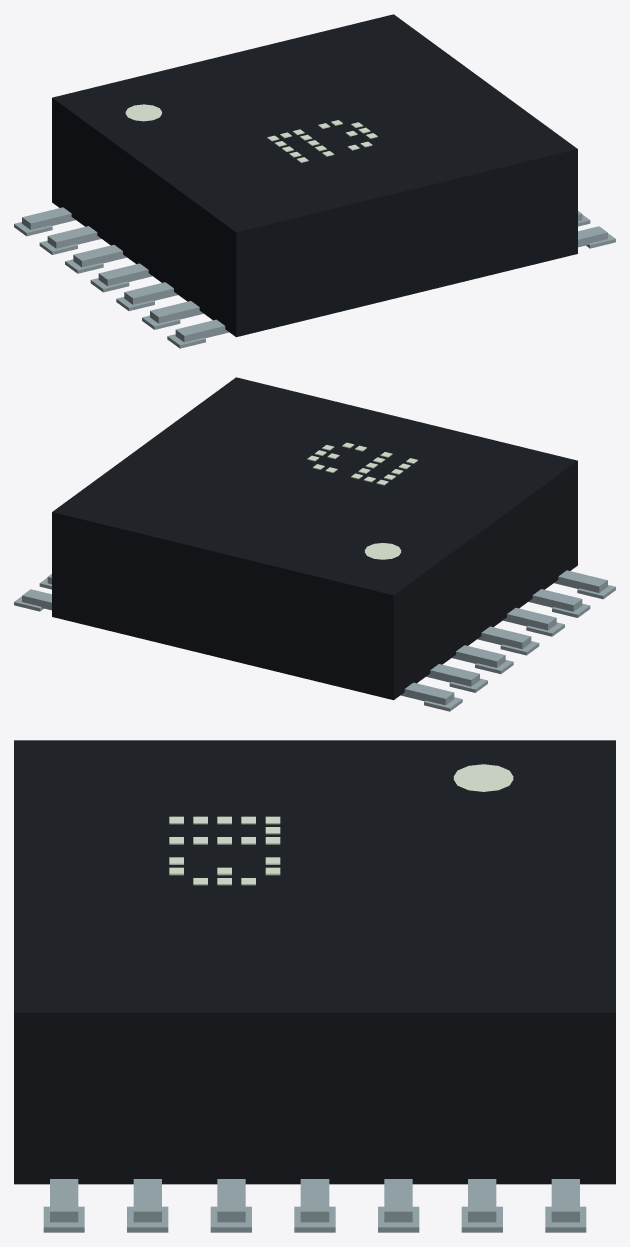
The picture shows the model from 3 angles, top to bottom: view 1: azimuth 30°, elevation 25°; view 2: azimuth 150°, elevation 25°; view 3: azimuth 270°, elevation 25°; orthographic projection. The views are drawn at different scales.
Visible parts, largest first — view 1: U3_molded_body, U3_gullwing__1_6, U3_gullwing__1_1, U3_gullwing__1_3, U3_gullwing__1_2, U3_gullwing__1_4, U3_gullwing__1_0, U3_gullwing__1_5, U3_pin1_dot; view 2: U3_molded_body, U3_gullwing__1_0, U3_gullwing__1_3, U3_gullwing__1_5, U3_gullwing__1_4, U3_gullwing__1_2, U3_gullwing__1_6, U3_gullwing__1_1, U3_pin1_dot; view 3: U3_molded_body, U3_pin1_dot, U3_gullwing_1_3, U3_gullwing_1_2, U3_gullwing_1_4, U3_gullwing_1_0, U3_gullwing_1_1, U3_gullwing_1_5, U3_gullwing_1_6, U3_solder_1_2, U3_solder_1_4, U3_solder_1_3 (+4 smaller).
Boxes of the visible parts, x1=… form: U3_molded_body: x1=52, y1=14, x2=577, y2=337; U3_gullwing__1_6: x1=175, y1=319, x2=229, y2=342; U3_gullwing__1_1: x1=47, y1=226, x2=101, y2=248; U3_gullwing__1_3: x1=98, y1=263, x2=152, y2=286; U3_gullwing__1_2: x1=73, y1=245, x2=126, y2=267; U3_gullwing__1_4: x1=124, y1=282, x2=177, y2=304; U3_gullwing__1_0: x1=22, y1=207, x2=75, y2=229; U3_gullwing__1_5: x1=150, y1=301, x2=203, y2=323; U3_pin1_dot: x1=125, y1=104, x2=161, y2=121; U3_molded_body: x1=52, y1=377, x2=577, y2=700; U3_gullwing__1_0: x1=400, y1=682, x2=454, y2=705; U3_gullwing__1_3: x1=477, y1=626, x2=531, y2=649; U3_gullwing__1_5: x1=528, y1=589, x2=582, y2=611; U3_gullwing__1_4: x1=503, y1=608, x2=556, y2=630; U3_gullwing__1_2: x1=452, y1=645, x2=505, y2=667; U3_gullwing__1_6: x1=554, y1=570, x2=607, y2=592; U3_gullwing__1_1: x1=426, y1=664, x2=479, y2=686; U3_pin1_dot: x1=364, y1=543, x2=401, y2=559; U3_molded_body: x1=14, y1=740, x2=615, y2=1184; U3_pin1_dot: x1=453, y1=764, x2=513, y2=791; U3_gullwing_1_3: x1=300, y1=1179, x2=329, y2=1222; U3_gullwing_1_2: x1=384, y1=1179, x2=412, y2=1222; U3_gullwing_1_4: x1=217, y1=1179, x2=245, y2=1222; U3_gullwing_1_0: x1=551, y1=1179, x2=579, y2=1222; U3_gullwing_1_1: x1=468, y1=1179, x2=496, y2=1222; U3_gullwing_1_5: x1=133, y1=1179, x2=161, y2=1222; U3_gullwing_1_6: x1=50, y1=1179, x2=78, y2=1222; U3_solder_1_2: x1=378, y1=1206, x2=419, y2=1232; U3_solder_1_4: x1=210, y1=1206, x2=251, y2=1232; U3_solder_1_3: x1=294, y1=1206, x2=335, y2=1232.
Size of the model in its own units: 0.00957 by 0.00251 by 0.007.
